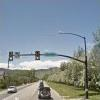Traffic light: (5, 46, 45, 65)
